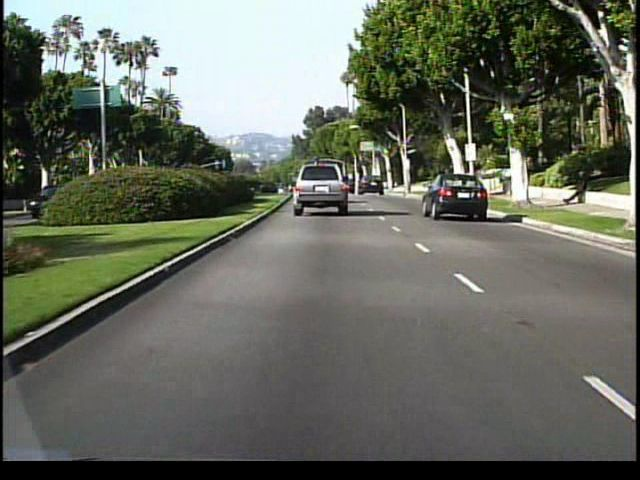person: (567, 167, 593, 210)
